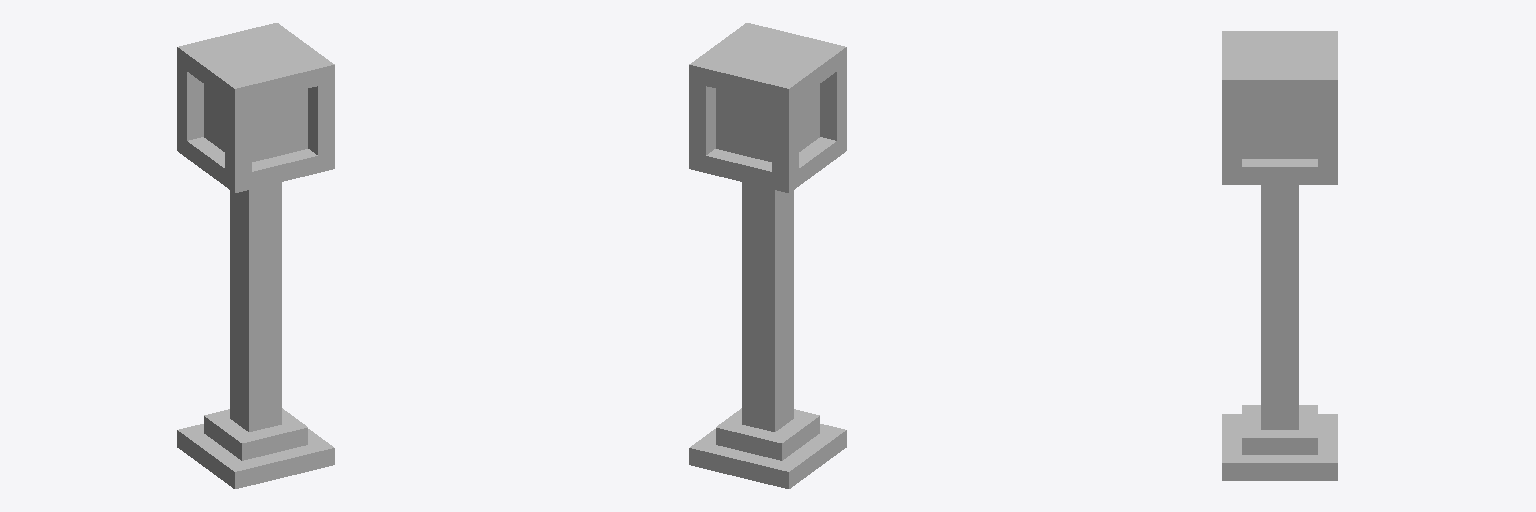
File: light.obj
3 renders of one model, left to right at view 1: azimuth 30°, elevation 25°; view 2: azimuth 150°, elevation 25°; view 3: azimuth 270°, elevation 25°, orthographic.
Parts seen in each view (by area): view 1: object 1; view 2: object 1; view 3: object 1.
Part boxes in pixels (x1,y1,x2,y2): object 1: (177,23,334,488); object 1: (689,23,846,488); object 1: (1222,31,1337,480).
Bounding box in the file's own units: 0.6 × 2.3 × 0.6.